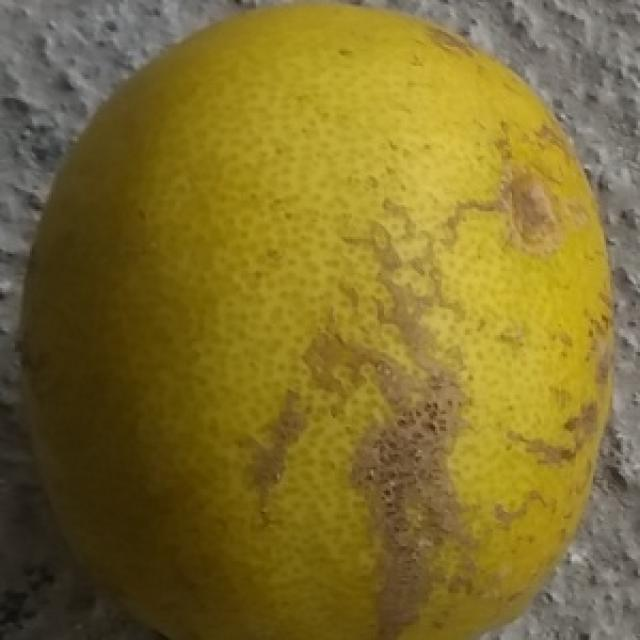overripe: (12, 0, 626, 640)
